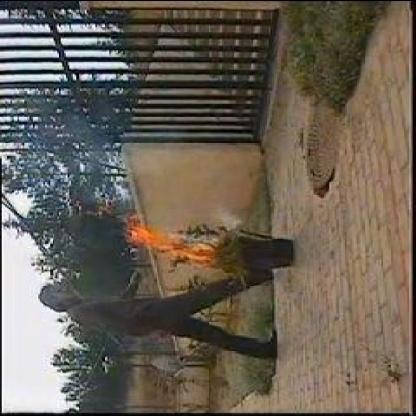foggia-v2-map80-epoch100 - v1 4323: (124, 224, 172, 260)
